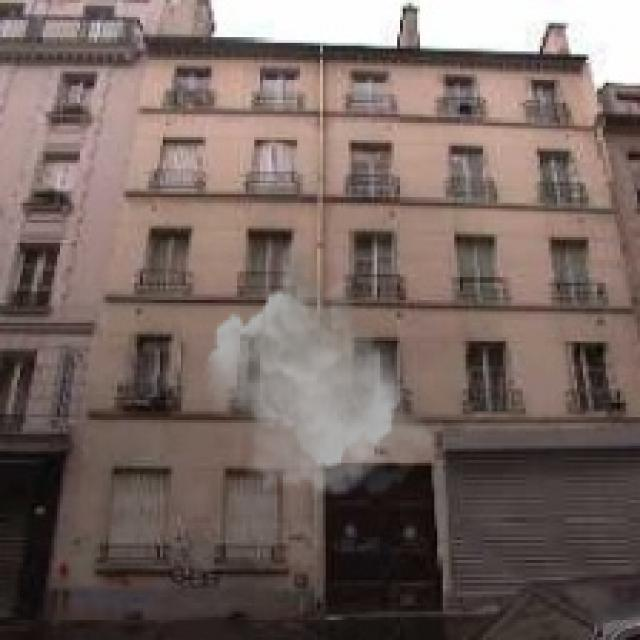Smoke: (203, 240, 434, 503)
